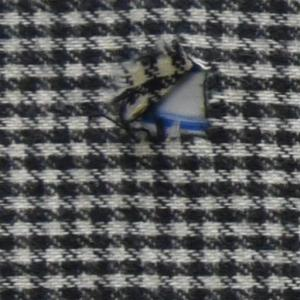Damage: (101, 42, 227, 152)
